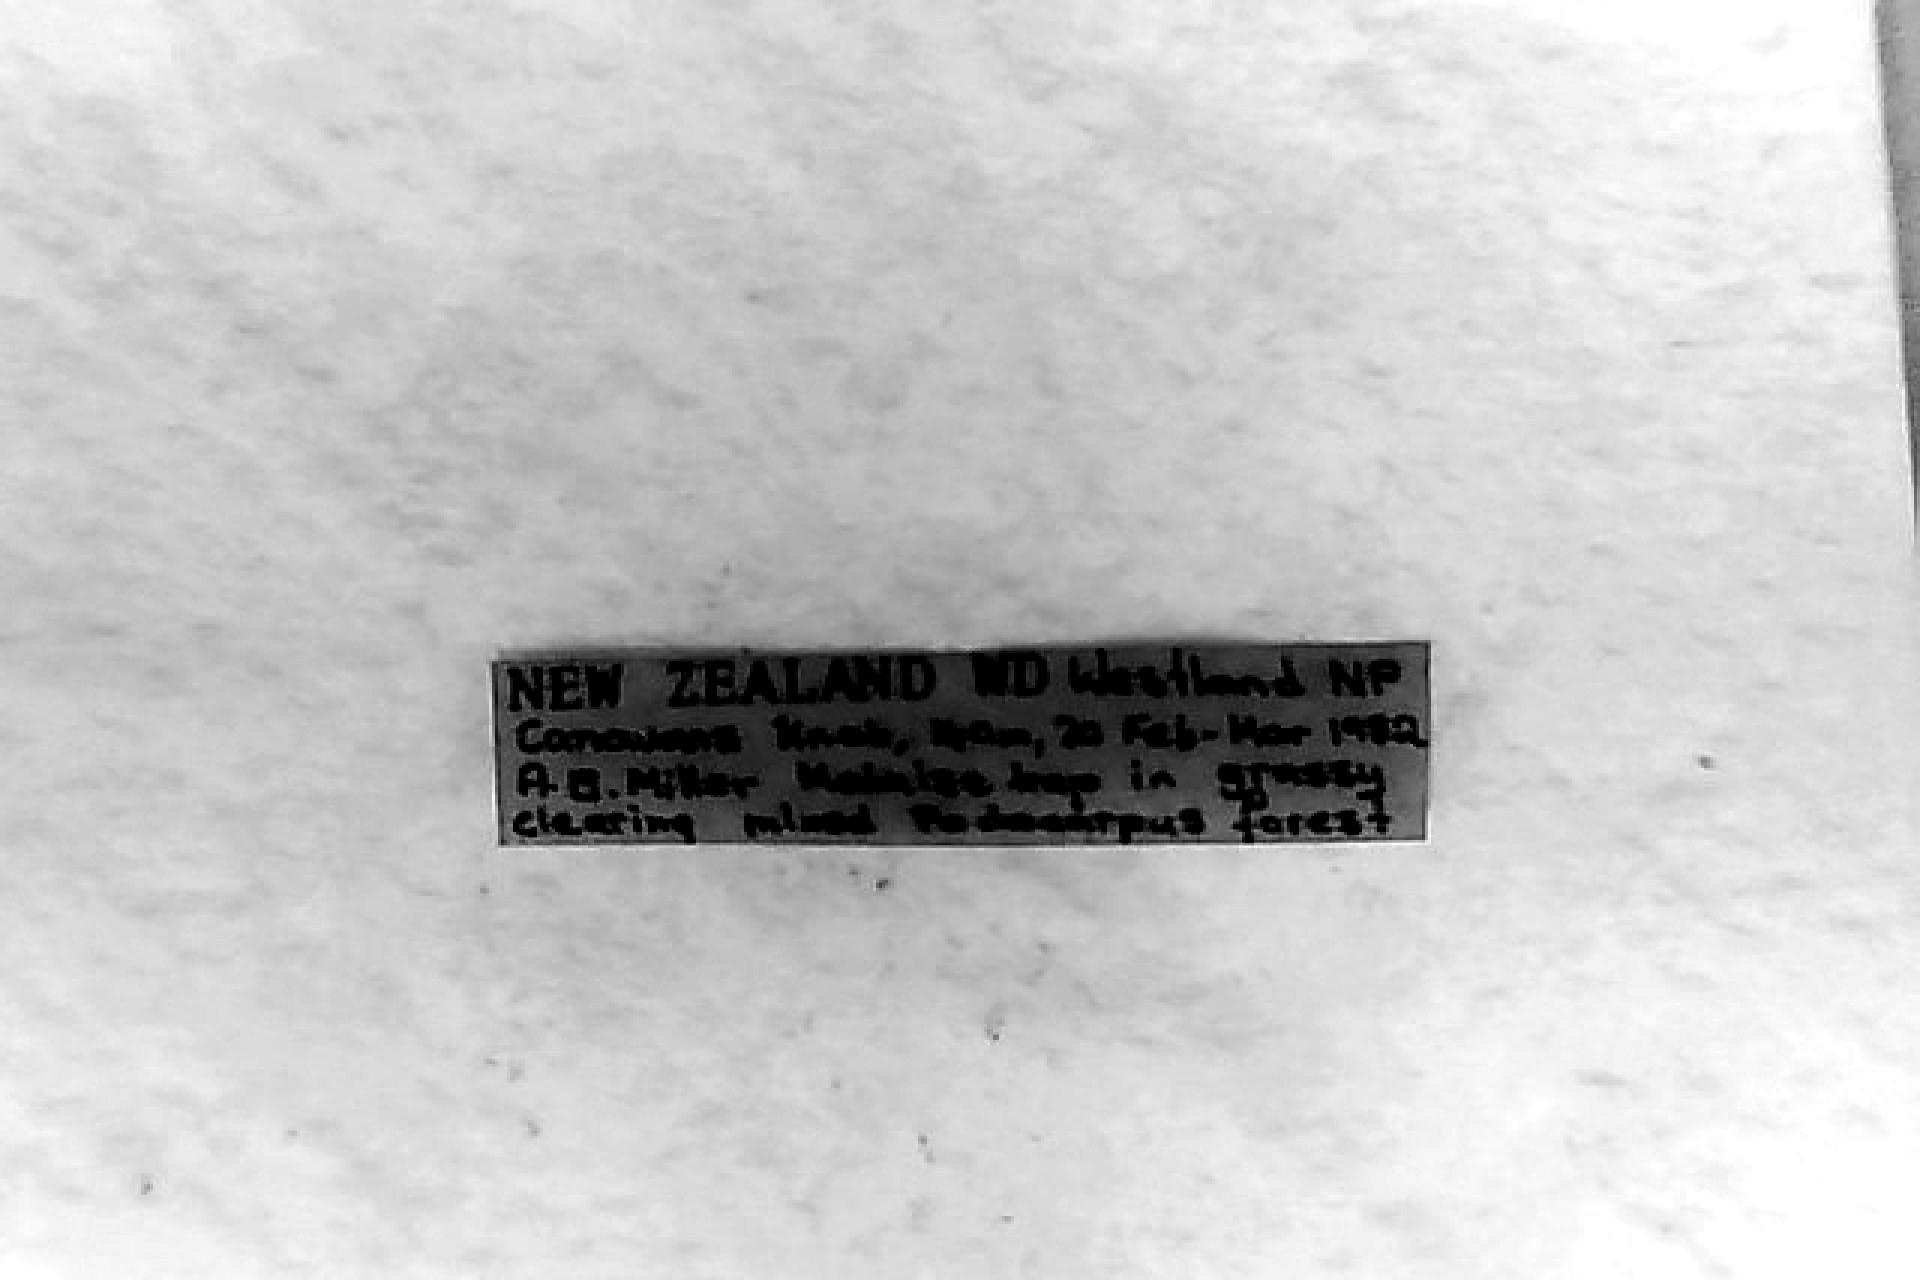mixed_label: (491, 643, 1425, 847)
